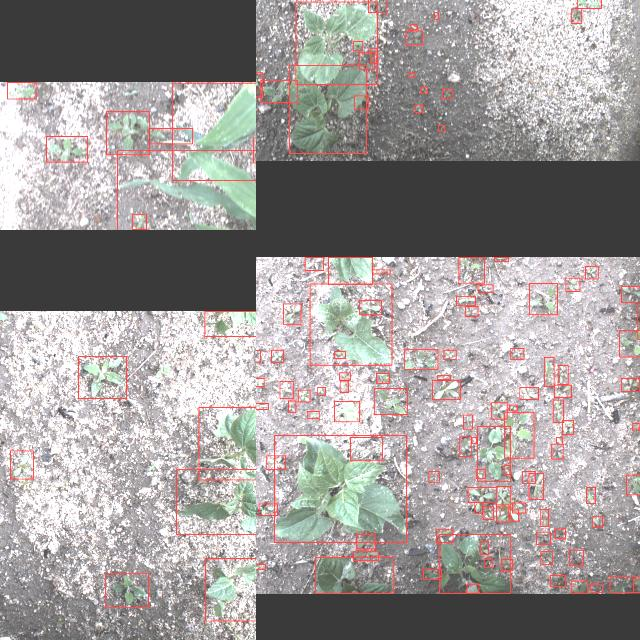crop: (275, 434, 407, 542), (117, 150, 256, 230), (172, 82, 256, 180), (289, 64, 366, 154), (296, 1, 378, 84), (310, 284, 392, 364), (176, 468, 256, 533), (198, 406, 256, 479), (440, 534, 510, 592), (205, 557, 256, 620), (314, 557, 394, 593), (204, 310, 256, 335), (328, 256, 372, 284), (334, 401, 360, 422), (467, 584, 479, 594)
weed: (78, 356, 126, 398), (106, 110, 150, 154), (478, 425, 510, 481), (105, 573, 148, 607), (504, 412, 534, 458), (46, 135, 88, 161), (529, 282, 557, 314), (374, 388, 408, 414), (260, 80, 298, 102), (350, 437, 382, 461), (404, 349, 438, 369), (459, 256, 485, 282), (11, 450, 34, 478), (150, 128, 192, 142), (619, 330, 640, 356), (432, 379, 460, 398), (609, 576, 640, 592), (8, 82, 36, 98), (528, 473, 544, 499), (468, 488, 496, 502), (284, 302, 300, 324), (360, 300, 382, 314), (496, 486, 510, 508), (544, 356, 554, 386), (622, 286, 640, 302), (304, 256, 324, 270), (266, 455, 286, 469), (356, 534, 376, 548), (626, 474, 640, 494), (552, 400, 564, 422), (491, 402, 507, 418), (360, 52, 374, 70), (554, 384, 572, 398), (258, 503, 278, 515), (620, 378, 640, 390), (496, 504, 509, 522), (406, 30, 422, 44), (569, 550, 583, 566), (572, 580, 588, 594), (280, 380, 292, 398), (436, 530, 454, 542), (520, 387, 538, 399), (460, 436, 470, 456), (456, 295, 476, 305), (558, 364, 568, 384), (369, 0, 387, 11), (132, 214, 146, 228), (566, 277, 580, 291), (354, 552, 378, 560), (354, 95, 368, 108), (423, 569, 441, 579), (577, 0, 601, 7), (271, 348, 283, 362), (541, 550, 553, 564), (536, 532, 550, 544), (522, 471, 536, 483), (562, 420, 574, 434), (586, 264, 598, 278), (586, 487, 596, 503), (550, 576, 566, 586), (482, 506, 493, 520), (256, 72, 262, 97), (298, 389, 310, 401), (540, 508, 548, 526), (572, 8, 582, 22), (512, 502, 526, 512), (552, 444, 562, 458), (376, 373, 389, 383), (511, 348, 524, 358), (463, 414, 472, 428), (466, 306, 478, 316), (593, 516, 603, 528), (478, 284, 492, 292), (442, 88, 452, 99), (429, 471, 439, 482), (479, 542, 488, 554), (444, 349, 456, 358), (353, 40, 363, 50), (502, 560, 512, 570), (555, 528, 565, 538), (369, 48, 376, 62), (340, 380, 348, 392), (334, 350, 346, 358), (474, 502, 482, 514), (591, 584, 603, 592), (476, 469, 486, 478), (288, 401, 296, 412), (340, 372, 350, 380), (308, 410, 318, 418), (511, 510, 519, 520), (484, 558, 492, 568), (256, 377, 264, 386), (256, 403, 268, 409), (372, 269, 390, 273), (317, 387, 325, 395), (504, 464, 510, 474), (494, 256, 508, 260), (256, 564, 265, 570), (416, 104, 422, 112), (420, 87, 428, 93), (410, 24, 418, 30), (256, 349, 260, 361), (509, 404, 517, 410), (438, 375, 450, 379), (633, 422, 639, 430), (438, 125, 444, 131), (556, 437, 562, 443), (409, 73, 415, 77), (434, 12, 438, 18), (472, 437, 476, 443)
